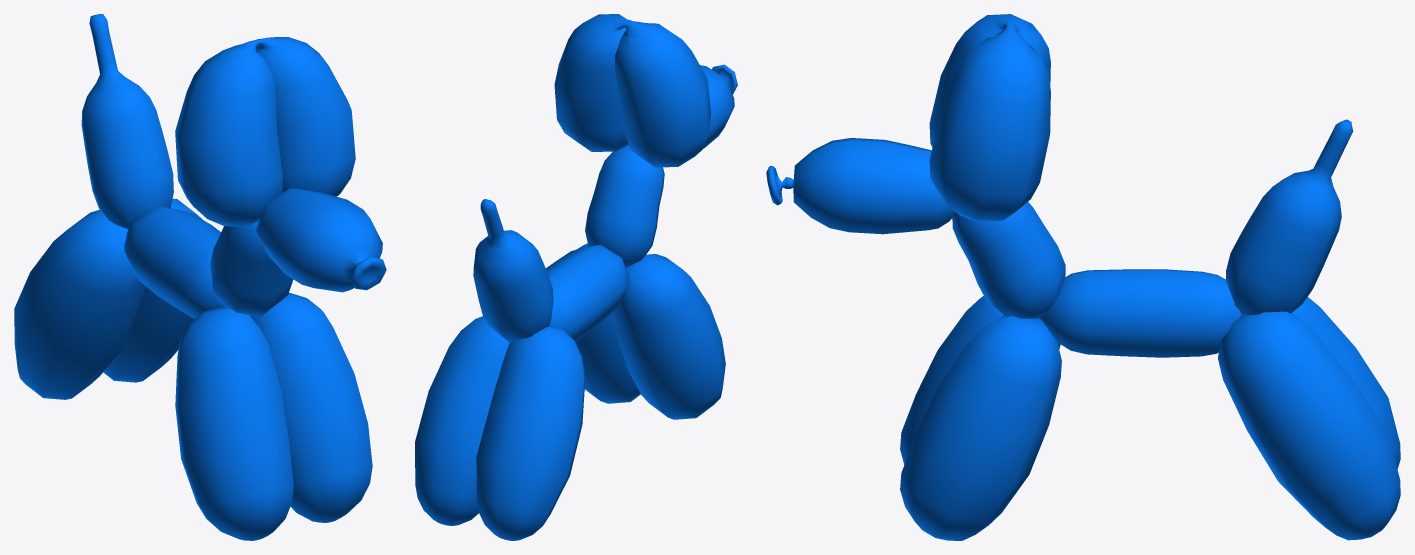
The model's file is blue.glb.
3 renders of one model, left to right at view 1: azimuth 30°, elevation 25°; view 2: azimuth 150°, elevation 25°; view 3: azimuth 270°, elevation 25°, orthographic. The views are drawn at different scales.
Visible parts, largest first — view 1: Sphere.004; view 2: Sphere.004; view 3: Sphere.004.
Boxes of the visible parts, box(x1,y1,x2,y2) form: Sphere.004: box(14, 14, 386, 540); Sphere.004: box(415, 14, 737, 540); Sphere.004: box(766, 14, 1400, 540).
Bounding box in the file's own units: 1.24 × 3.12 × 3.63.
